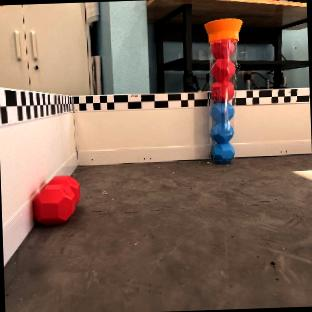V5_BLUE: (211, 103, 234, 161)
V5_RED: (206, 19, 241, 162), (32, 175, 81, 225), (211, 38, 235, 101), (211, 59, 234, 101)
